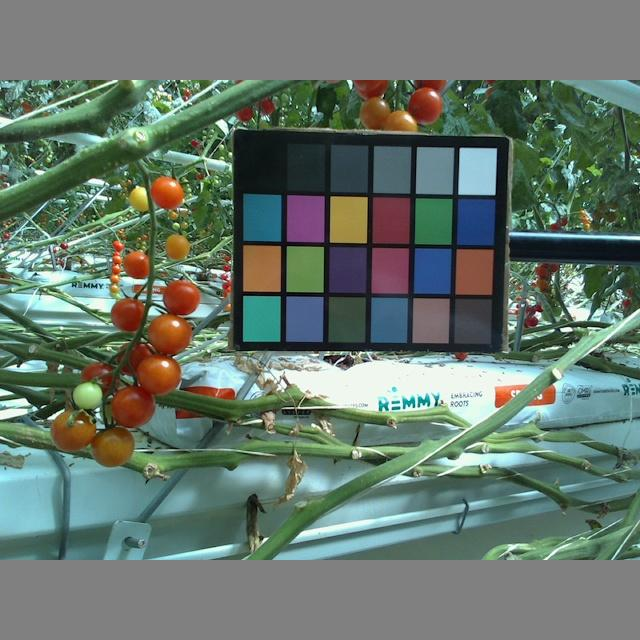green: (71, 382, 103, 412), (128, 185, 155, 211)
pink: (50, 409, 98, 452), (110, 386, 156, 429), (89, 425, 135, 468), (137, 354, 183, 396), (148, 314, 191, 357), (113, 342, 158, 378), (80, 361, 121, 399), (162, 278, 202, 313), (111, 297, 148, 332), (408, 88, 443, 125), (150, 173, 185, 208), (359, 97, 390, 130), (122, 250, 156, 280), (163, 232, 190, 260)
